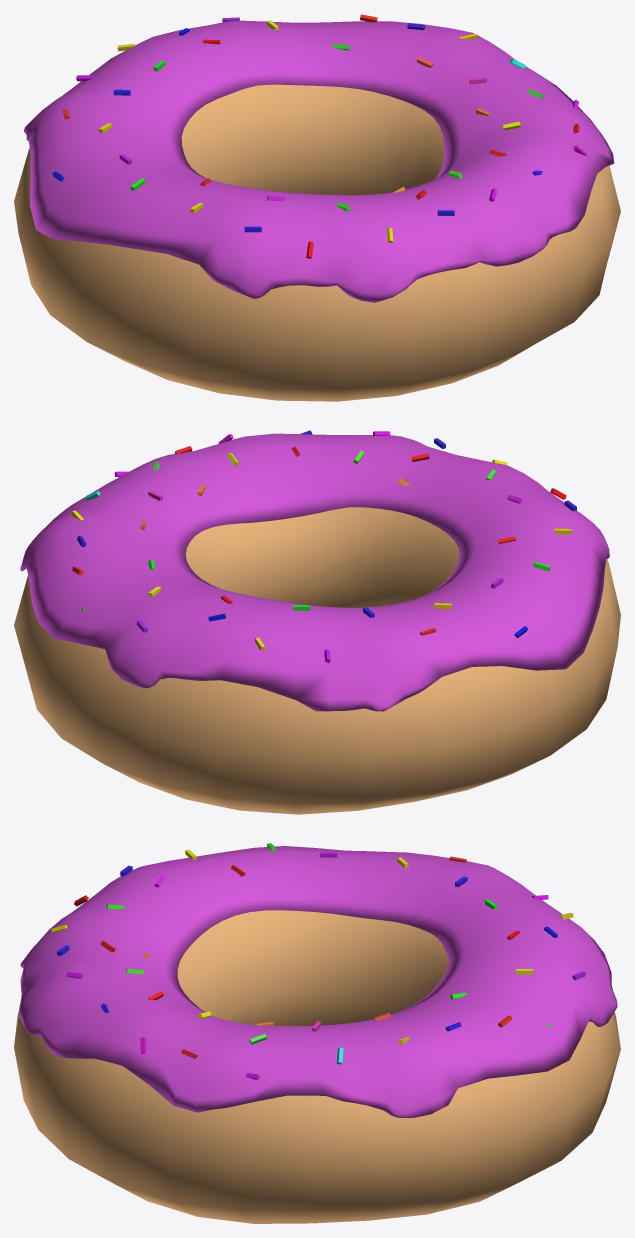
File: Lowpoly-Donut-Pink.fbx
3 views of the same model, one above another, from view 1: azimuth 30°, elevation 25°; view 2: azimuth 150°, elevation 25°; view 3: azimuth 270°, elevation 25° (orthographic).
Visible parts, largest first — view 1: Icing, Donut; view 2: Icing, Donut; view 3: Icing, Donut.
Boxes of the visible parts, x1,y1,x2,y2 form: Icing: (24,20,614,302); Donut: (14,84,620,401); Icing: (20,433,609,711); Donut: (14,507,620,814); Icing: (19,846,617,1117); Donut: (14,910,620,1223).
Bounding box in the file's own units: 14.32 × 4.94 × 14.16.
